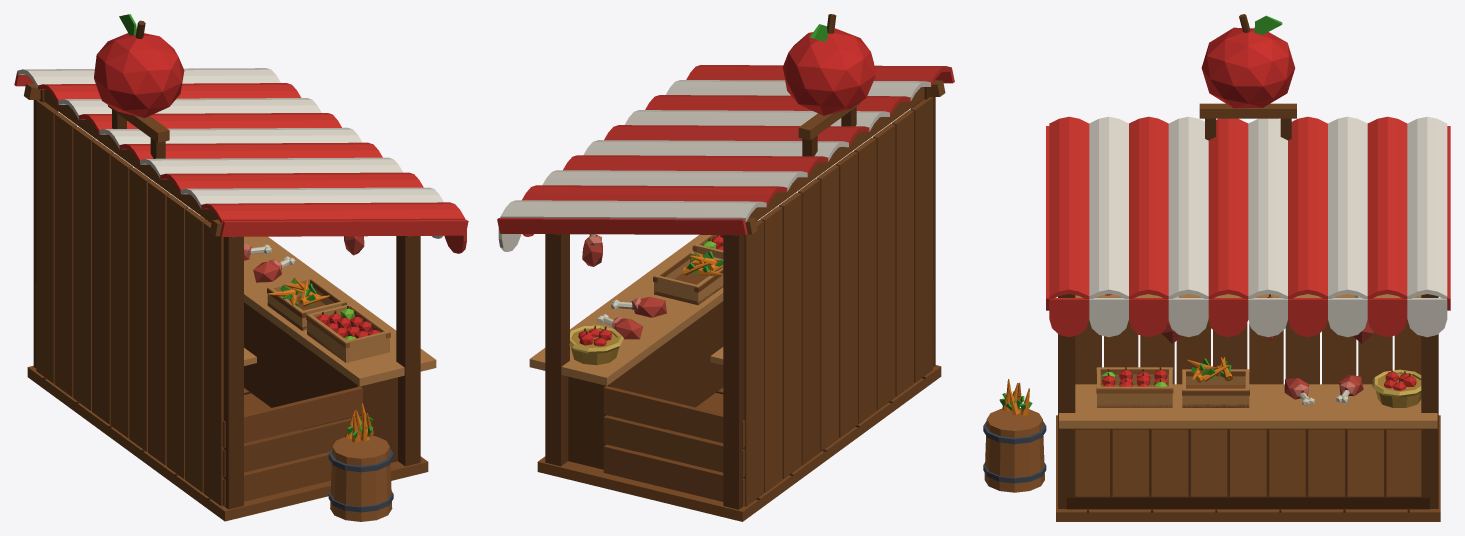
File: stall_food.glb
3 renders of one model, left to right at view 1: azimuth 30°, elevation 25°; view 2: azimuth 150°, elevation 25°; view 3: azimuth 270°, elevation 25°, orthographic. The views are drawn at different scales.
Parts seen in each view (by area): view 1: stall_food; view 2: stall_food; view 3: stall_food.
Part boxes in pixels (box(x1,y1,x2,y2)): stall_food: box(14, 14, 468, 521); stall_food: box(497, 14, 954, 521); stall_food: box(983, 14, 1450, 521).
Size of the model in its own units: 2.76 by 4.25 by 4.32.
